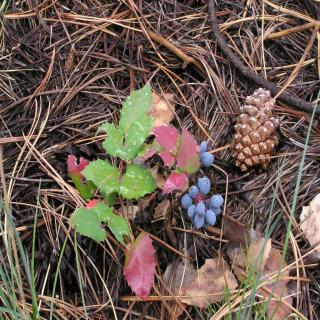Grape: (182, 179, 225, 229), (200, 152, 215, 167), (200, 140, 207, 155)
